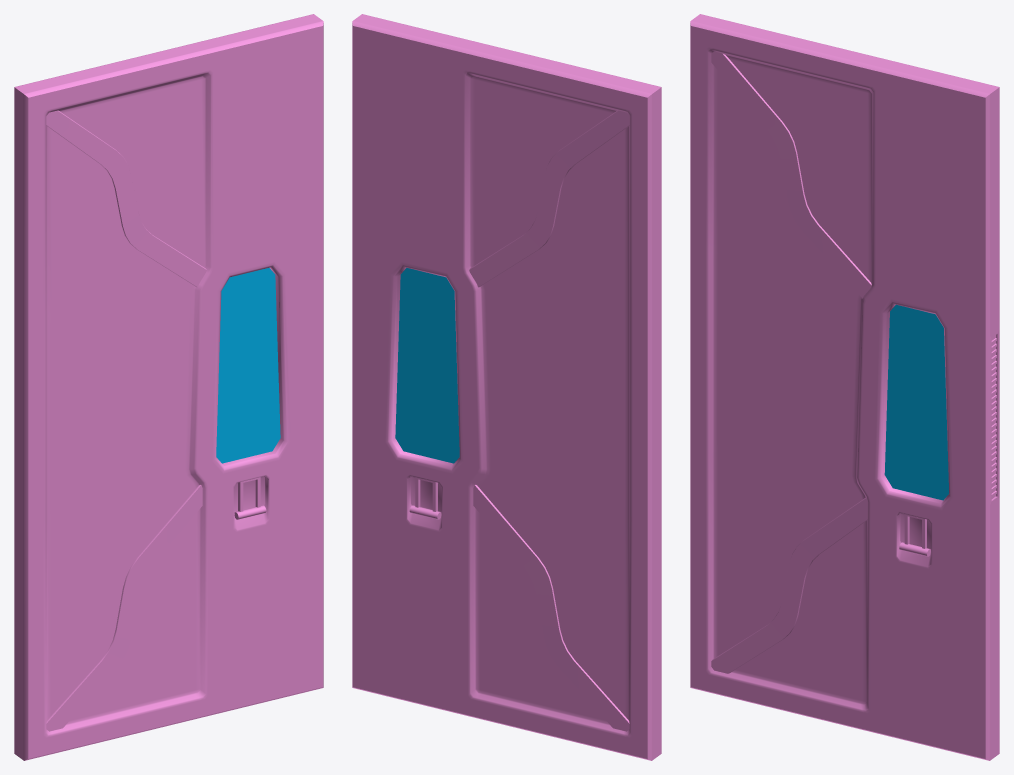
File: Door04_Door.FBX
The picture shows the model from 3 angles, left to right: view 1: azimuth 30°, elevation 25°; view 2: azimuth 150°, elevation 25°; view 3: azimuth 330°, elevation 25°; orthographic projection.
Visible parts, largest first — view 1: SM_Door04_Door; view 2: SM_Door04_Door; view 3: SM_Door04_Door.
Part boxes in pixels (x1,y1,x2,y2): SM_Door04_Door: (14, 14, 323, 760); SM_Door04_Door: (352, 14, 661, 760); SM_Door04_Door: (690, 14, 999, 760).
Size of the model in its own units: 113 by 241 by 10.11.
